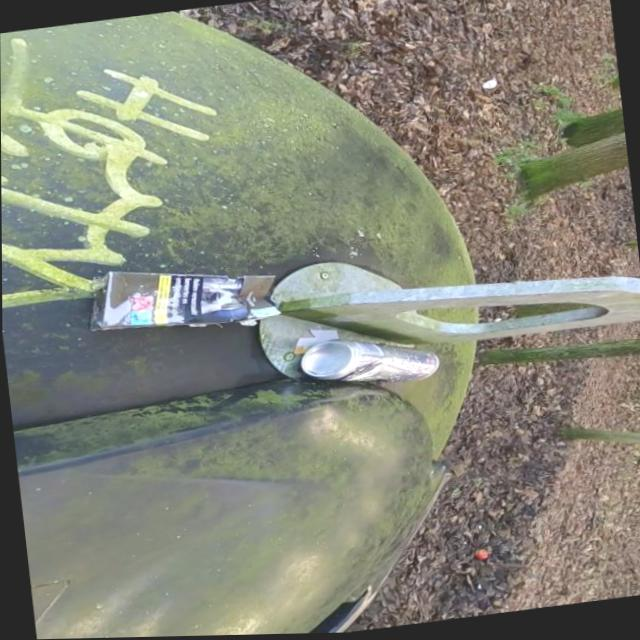Can-Metal: (296, 326, 441, 396)
Paper: (81, 250, 283, 346)
Plastic: (288, 325, 341, 357), (473, 549, 489, 562)
